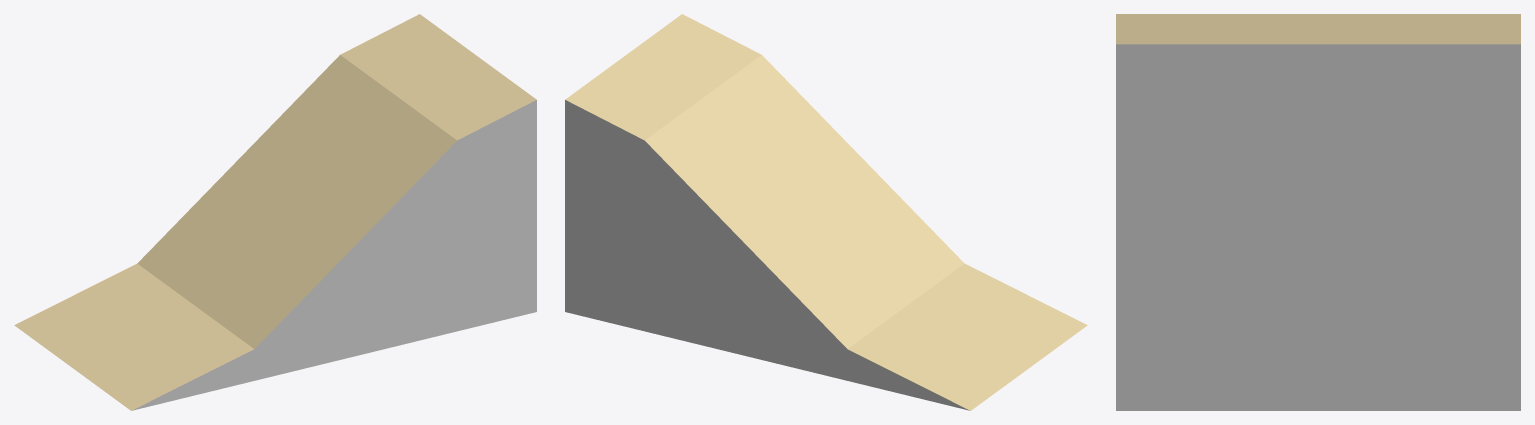
File: Path_Terrain_Incline_Sharp_Center_1x2.glb
3 renders of one model, left to right at view 1: azimuth 30°, elevation 25°; view 2: azimuth 150°, elevation 25°; view 3: azimuth 270°, elevation 25°, orthographic. The views are drawn at different scales.
Parts seen in each view (by area): view 1: Path_Terrain_Incline_Sharp_Center_1x2; view 2: Path_Terrain_Incline_Sharp_Center_1x2; view 3: Path_Terrain_Incline_Sharp_Center_1x2.
Boxes of the visible parts, x1,y1,x2,y2 form: Path_Terrain_Incline_Sharp_Center_1x2: [14, 14, 536, 410]; Path_Terrain_Incline_Sharp_Center_1x2: [565, 14, 1087, 410]; Path_Terrain_Incline_Sharp_Center_1x2: [1116, 14, 1520, 410].
Bounding box in the file's own units: 200 × 100 × 100.
